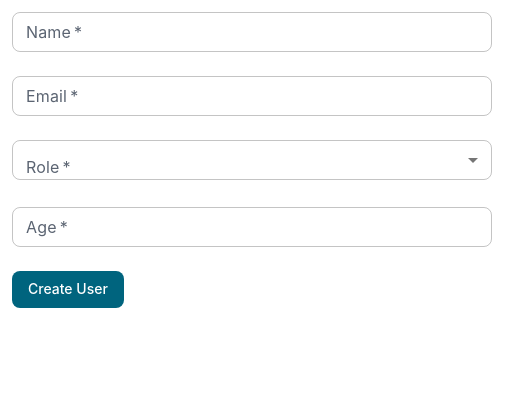
UserForm validation › shows a required error when Name is left blank
Click the button "Create User": (68, 289) [12,271,124,308]
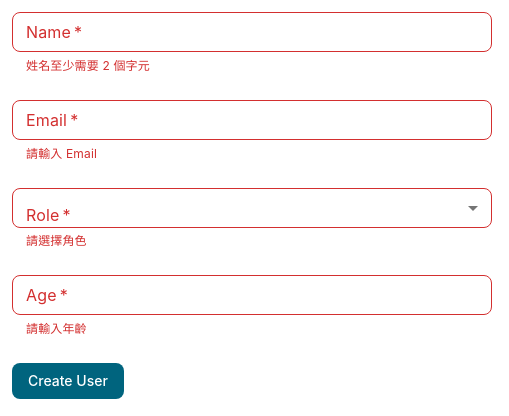
Check: the text "姓名至少需要 2 個字元" is shown, box [26,58,150,73]
